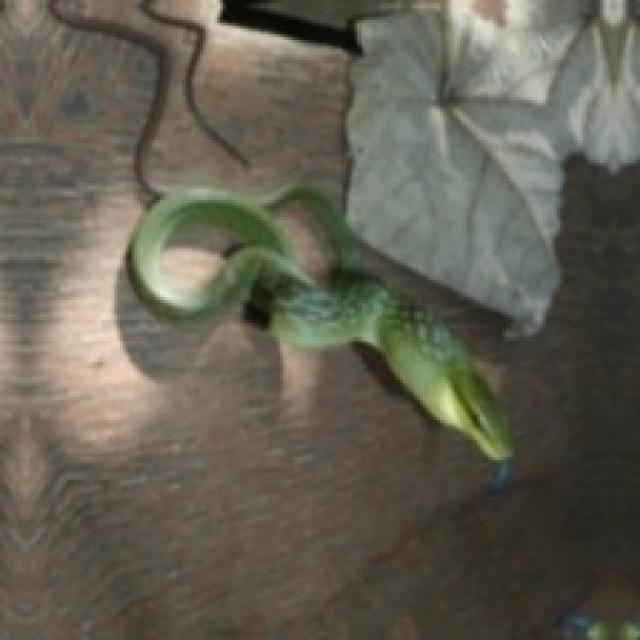red-tailed green ratsnake: (49, 0, 511, 477), (126, 183, 511, 463)
